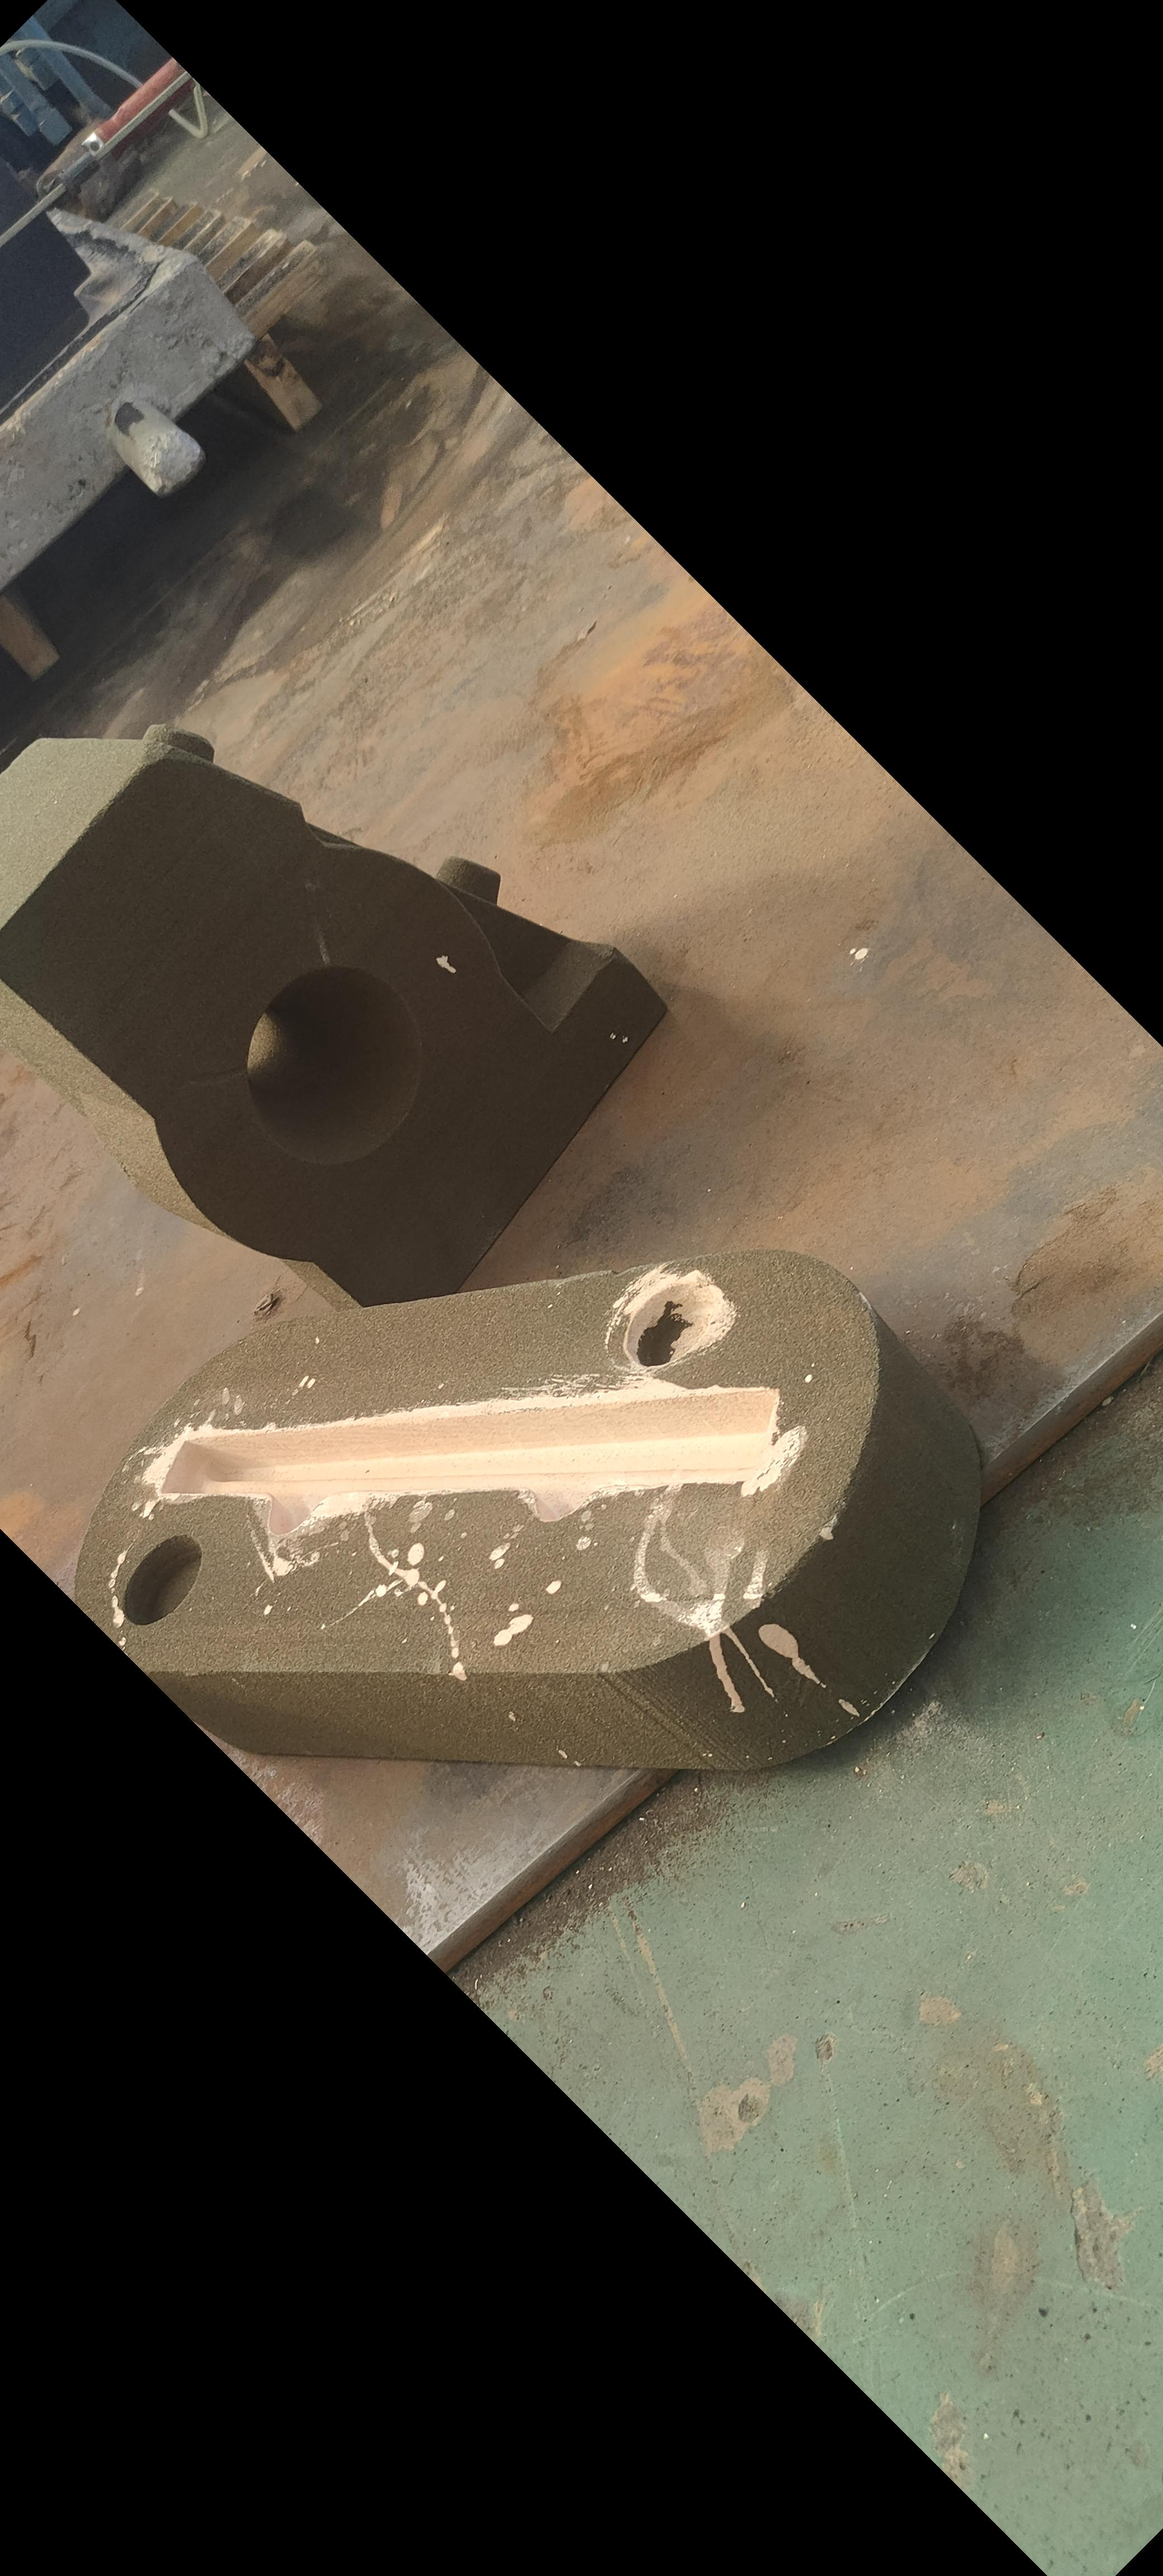pouring hole: (246, 966, 421, 1166)
